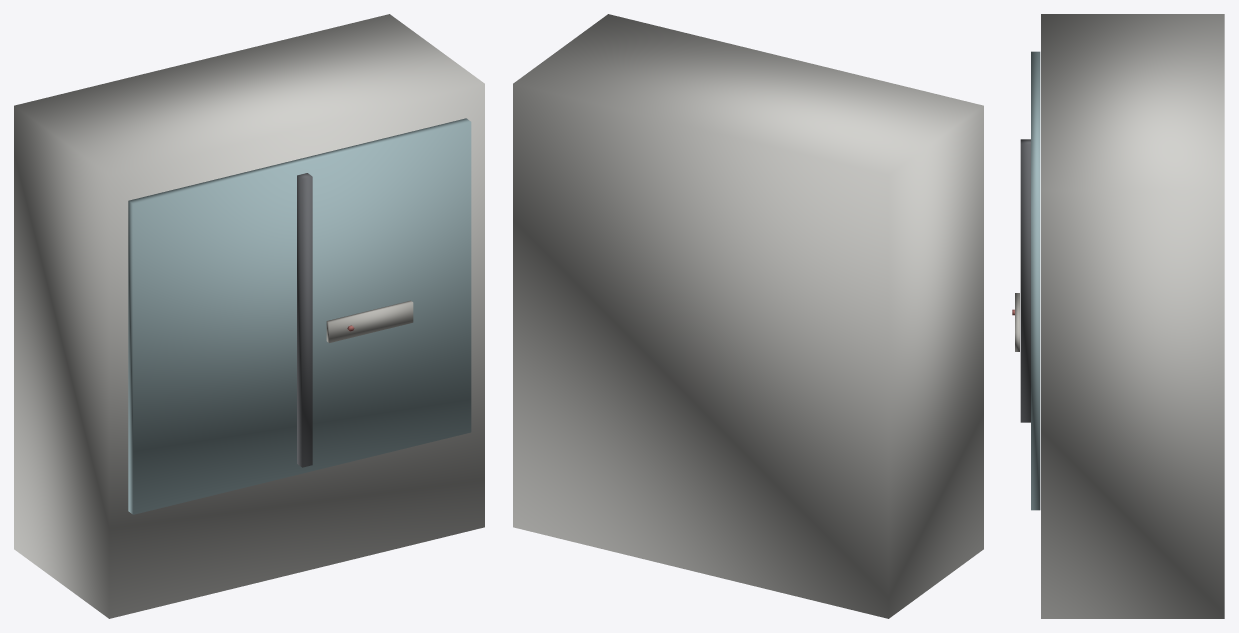
Rendered from refrigerated_display_case__wide.glb.
The picture shows the model from 3 angles, left to right: view 1: azimuth 30°, elevation 25°; view 2: azimuth 150°, elevation 25°; view 3: azimuth 270°, elevation 25°; orthographic projection. The views are drawn at different scales.
Visible parts, largest first — view 1: world; view 2: world; view 3: world.
Part boxes in pixels (bbox=[...]): world: bbox=[14, 14, 484, 618]; world: bbox=[513, 14, 983, 618]; world: bbox=[1012, 14, 1224, 618].
Bounding box in the file's own units: 1.55 × 1.75 × 0.786.
